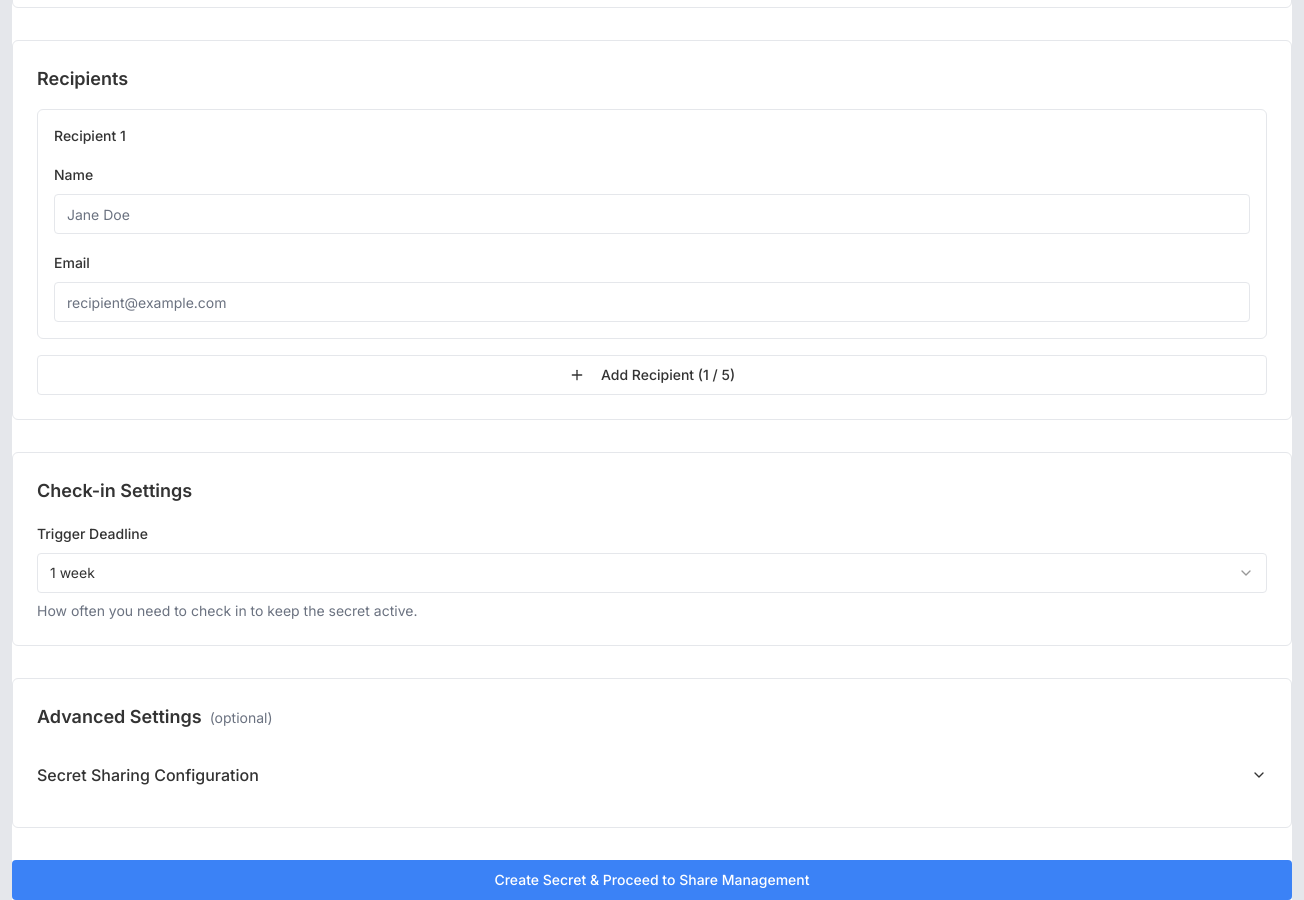
Scenario: NewSecretForm › should show select dropdown for paid users with more options
(page scrolled)
What coordinates should you click on to do the following:
click the dropdown named "trigger deadline"
I would click on:
 (72, 572)
Its box is [37,553,1267,593].
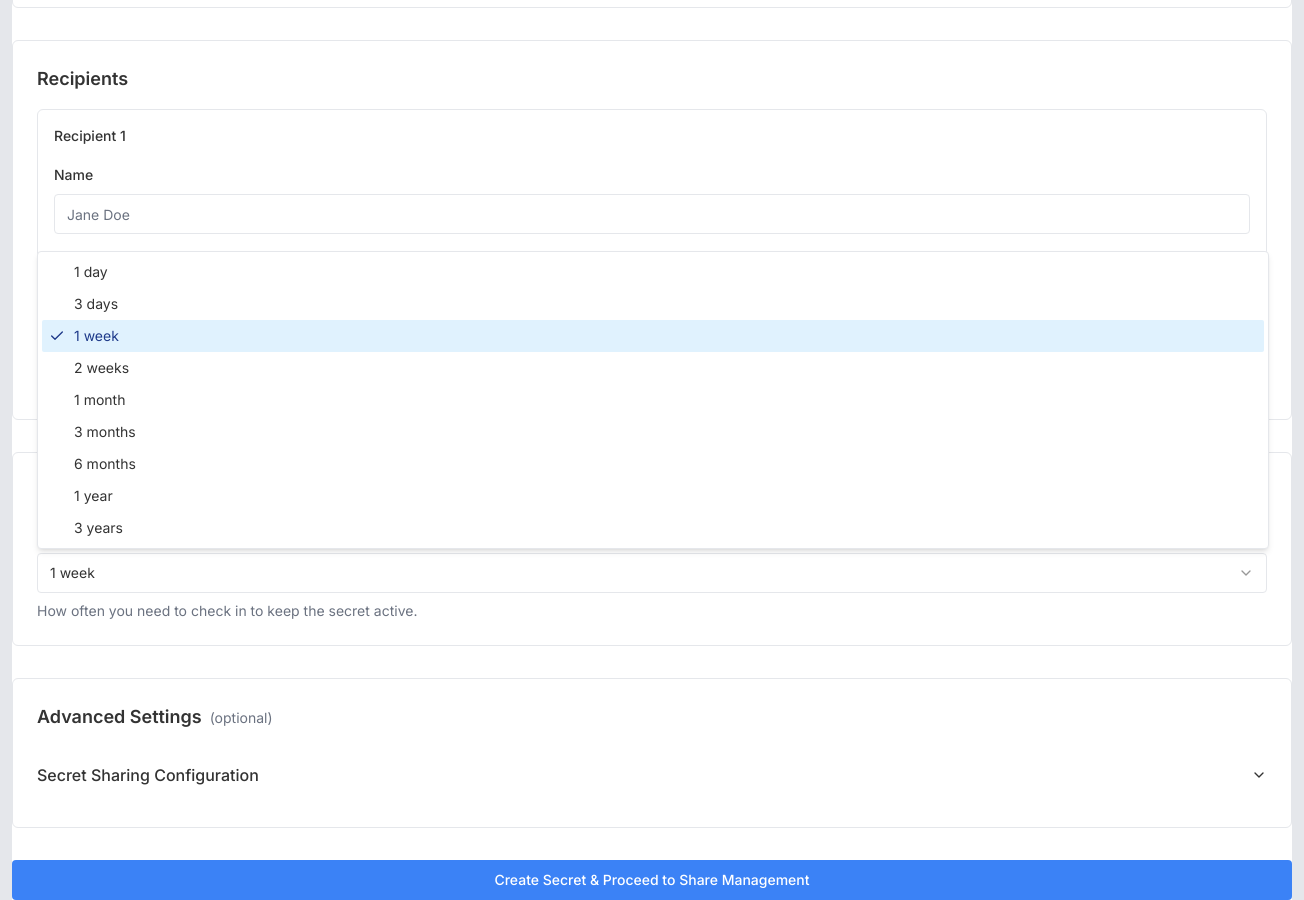
Expected: the option "1 day" is shown, [74,263,108,280]
Expected: the option "3 days" is shown, [74,295,118,312]
Expected: the option "1 week" is shown, [42,320,1264,352]
